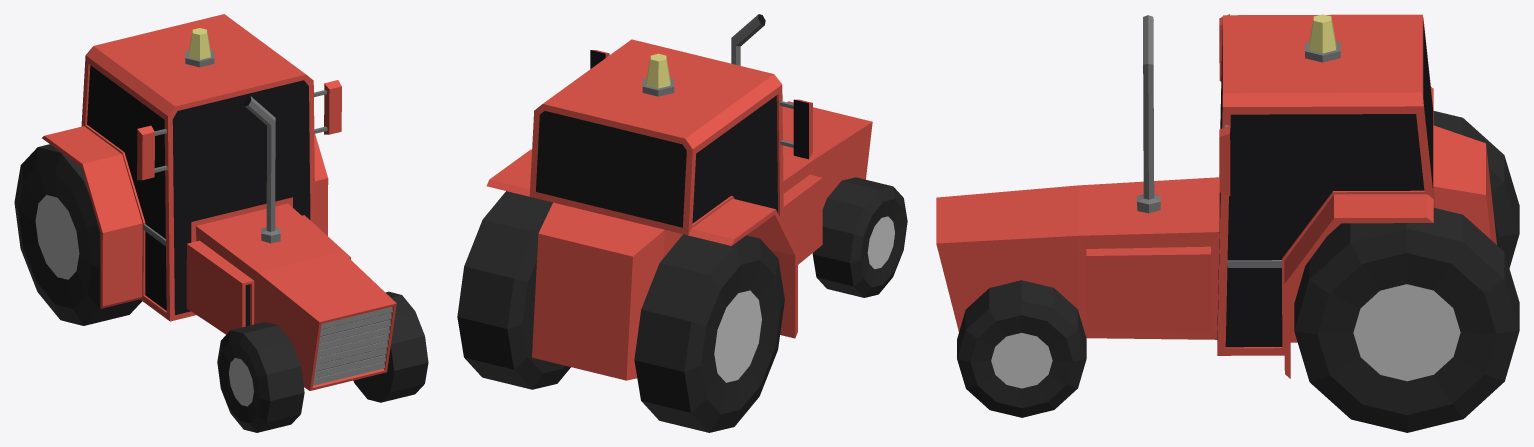
File: Tractor_02_02.fbx
The picture shows the model from 3 angles, left to right: view 1: azimuth 30°, elevation 25°; view 2: azimuth 150°, elevation 25°; view 3: azimuth 270°, elevation 25°; orthographic projection. The views are drawn at different scales.
Parts seen in each view (by area): view 1: Tractor_02_02; view 2: Tractor_02_02; view 3: Tractor_02_02.
Boxes of the visible parts, left/top/right/bottom form: Tractor_02_02: left=14, top=14, right=428, bottom=432; Tractor_02_02: left=457, top=14, right=907, bottom=432; Tractor_02_02: left=936, top=14, right=1519, bottom=432.
Bounding box in the file's own units: 3.42 × 4.19 × 6.3.
